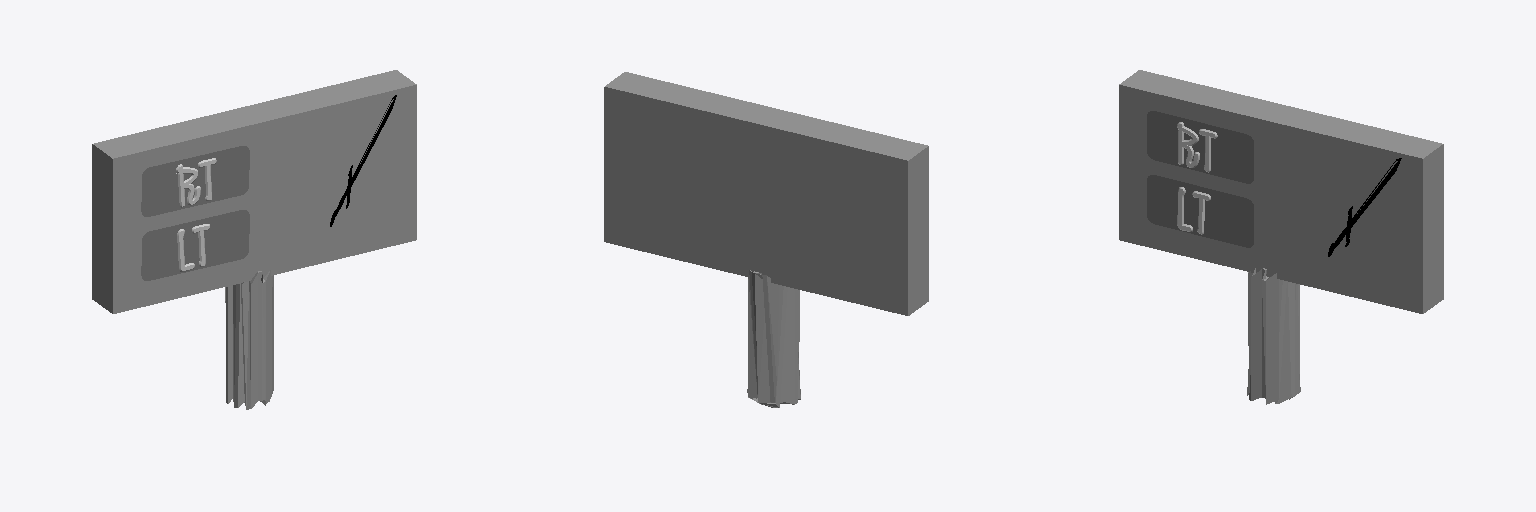
The model's file is woodensignattack.obj.
The picture shows the model from 3 angles: view 1: azimuth 30°, elevation 25°; view 2: azimuth 150°, elevation 25°; view 3: azimuth 330°, elevation 25°; orthographic projection.
Visible parts, largest first — view 1: Cylinder, Curve.000_Curve.004, Curve.002_Curve.003, Text, Text.001, Curve.001; view 2: Cylinder; view 3: Cylinder, Curve.000_Curve.004, Curve.002_Curve.003, Text, Curve.001, Text.001.
Part boxes in pixels (x1,y1,x2,y2): Cylinder: (92,70,416,409); Curve.000_Curve.004: (141,210,249,280); Curve.002_Curve.003: (141,146,249,216); Text: (176,158,216,207); Text.001: (177,224,209,271); Curve.001: (330,95,396,226); Cylinder: (604,72,928,407); Cylinder: (1119,70,1443,404); Curve.000_Curve.004: (1147,175,1253,247); Curve.002_Curve.003: (1147,111,1253,183); Text: (1177,122,1217,172); Curve.001: (1328,158,1401,256); Text.001: (1177,187,1210,234).
Size of the model in its own units: 3.21 by 2.84 by 0.5008.